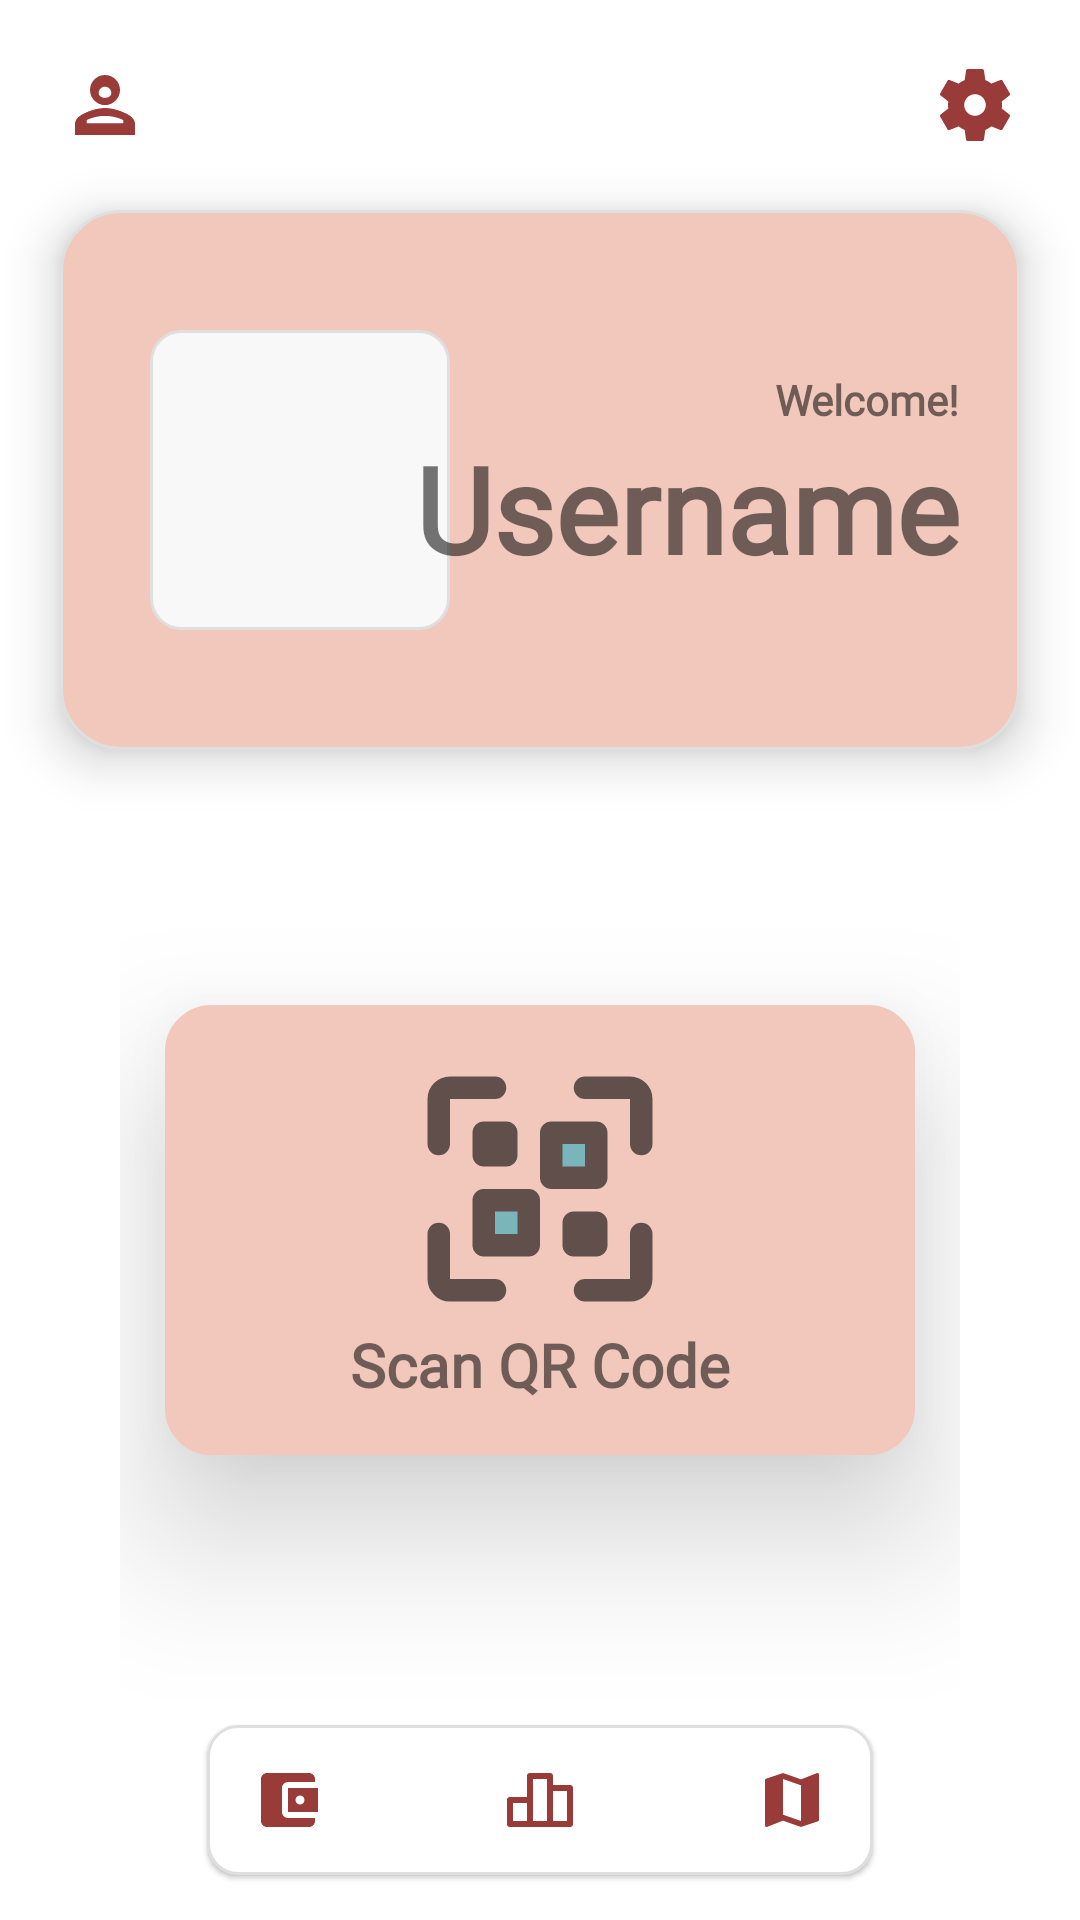

Icons on this 1080px x 1920px Android screen, each with the point to tap as (x=x, y=y):
leaderboard: (x=540, y=1800)
map: (x=792, y=1800)
settings: (x=975, y=105)
user: (x=105, y=105)
wallet: (x=289, y=1800)
